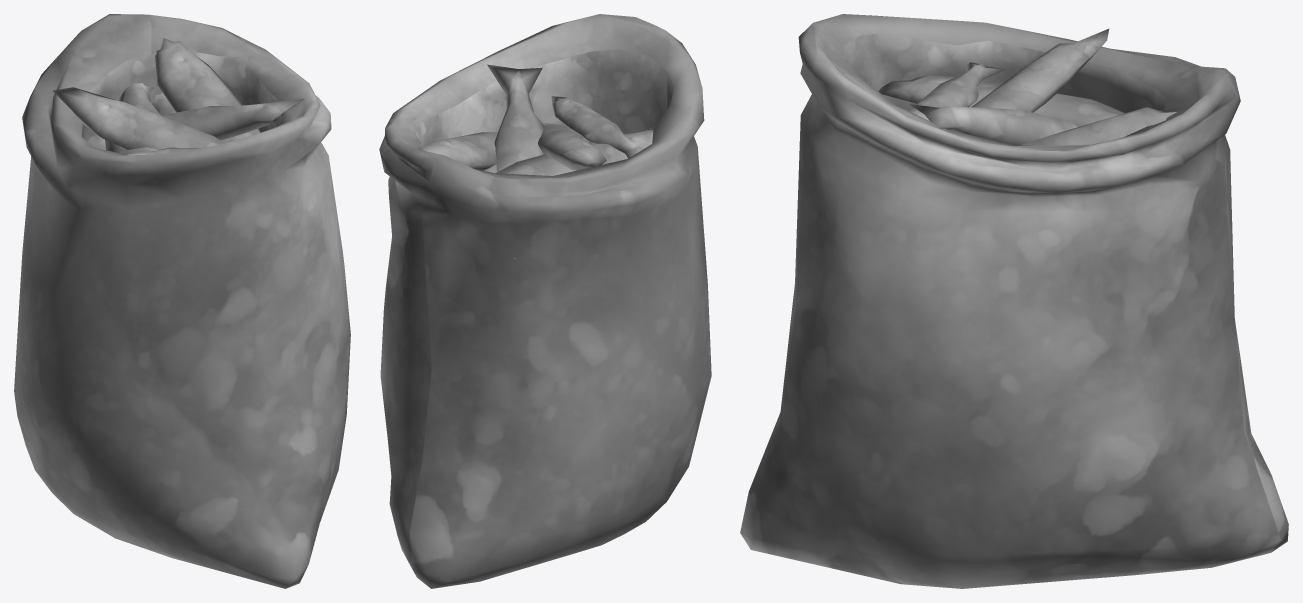
The model's file is SM_Sack_Fish_01a.fbx.
3 views of the same model, side by side, from view 1: azimuth 30°, elevation 25°; view 2: azimuth 150°, elevation 25°; view 3: azimuth 270°, elevation 25° (orthographic). The views are drawn at different scales.
Parts seen in each view (by area): view 1: SM_Sack_Fish_01a_LOD0; view 2: SM_Sack_Fish_01a_LOD0; view 3: SM_Sack_Fish_01a_LOD0.
Part boxes in pixels (x1,y1,x2,y2): SM_Sack_Fish_01a_LOD0: (14,14,350,588); SM_Sack_Fish_01a_LOD0: (379,14,711,588); SM_Sack_Fish_01a_LOD0: (740,14,1288,588).
Bounding box in the file's own units: 65.83 × 94.51 × 97.29.
